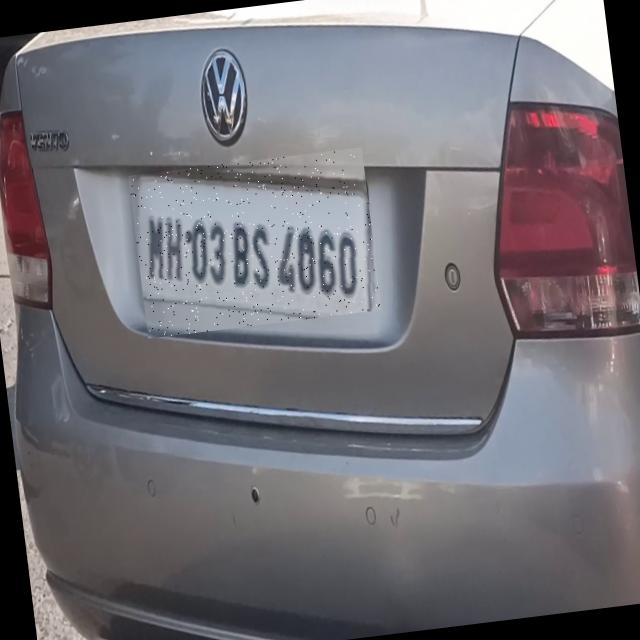Plate: (129, 148, 382, 339)
